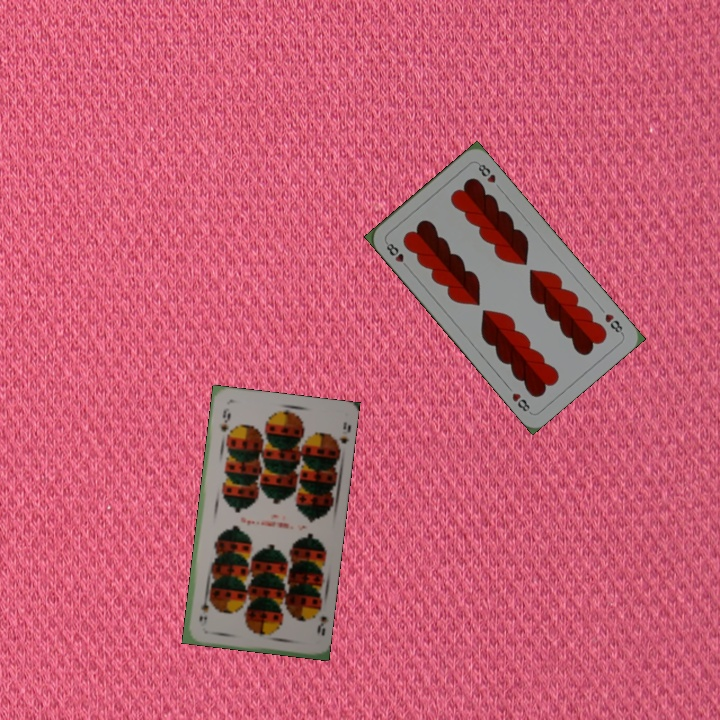H8: (382, 238, 412, 271), (601, 309, 626, 337)
S9: (310, 603, 329, 638), (217, 404, 232, 434)
